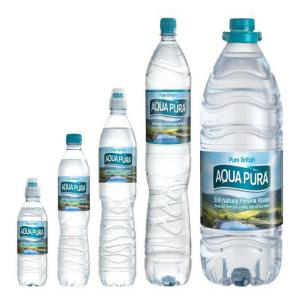Plastic-bottle: (200, 17, 287, 287), (145, 18, 195, 287), (98, 86, 140, 288), (58, 130, 92, 289), (17, 177, 50, 288)
